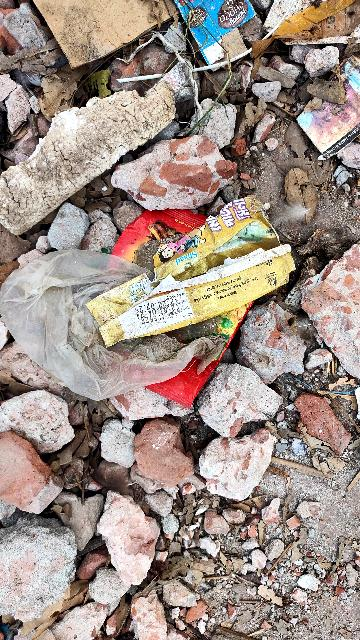packet: (68, 176, 274, 409)
